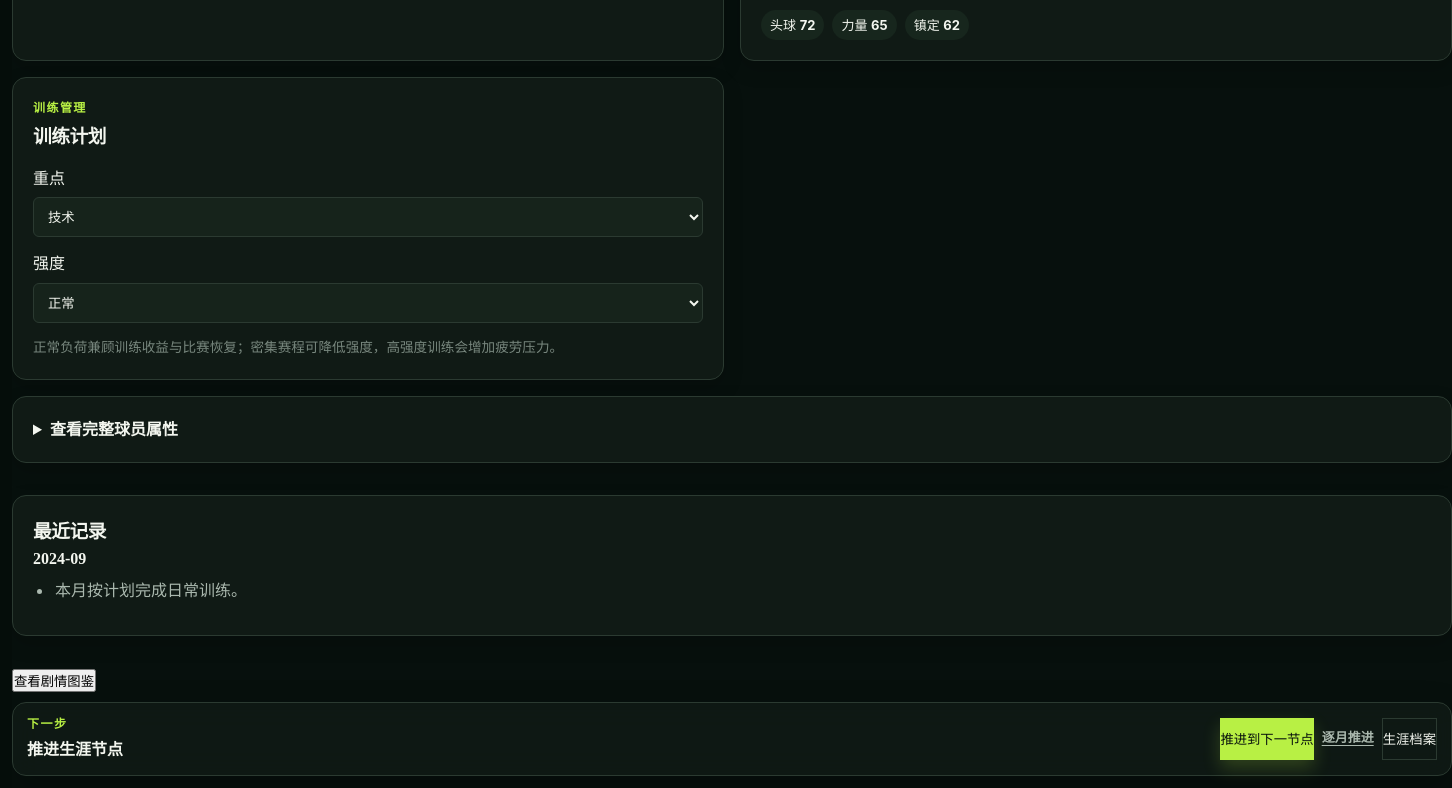
Scenario: CareerDashboard v2 › shows Chinese attributes, hides relationships and consolidates recent records
(page scrolled)
Check: the text "查看完整球员属性" is shown, box [12,396,1451,463]
Check: the text "停球" is not shown
Click the heading "查看完整球员属性" at point(114, 428), box [50,418,178,440]
(page scrolled)
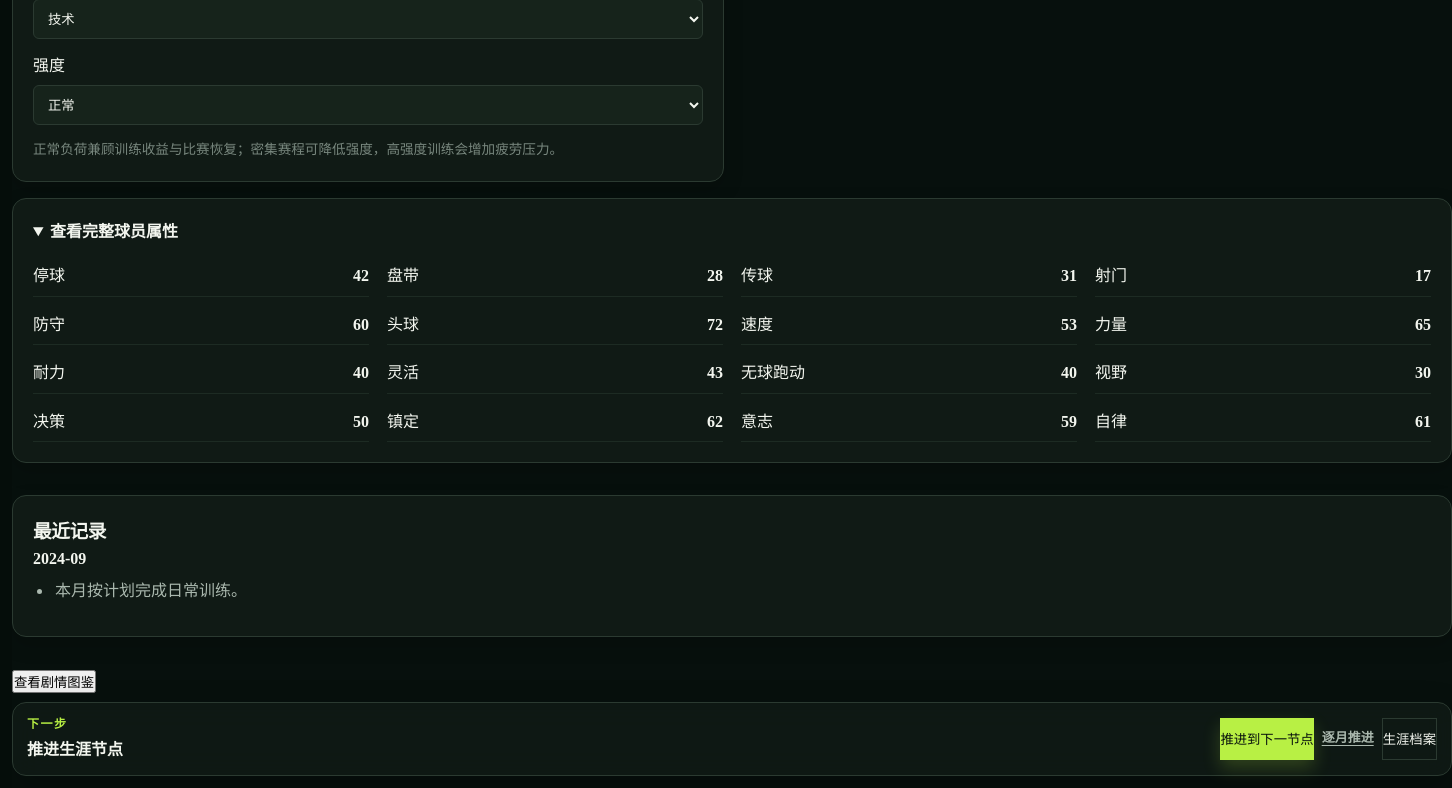
Check: the list item "本月按计划完成日常训练。" is shown, box [55,582,247,599]
Check: the text "停球" is shown, box [33,263,65,289]
Check: the text "无球跑动" is shown, box [741,360,805,386]
